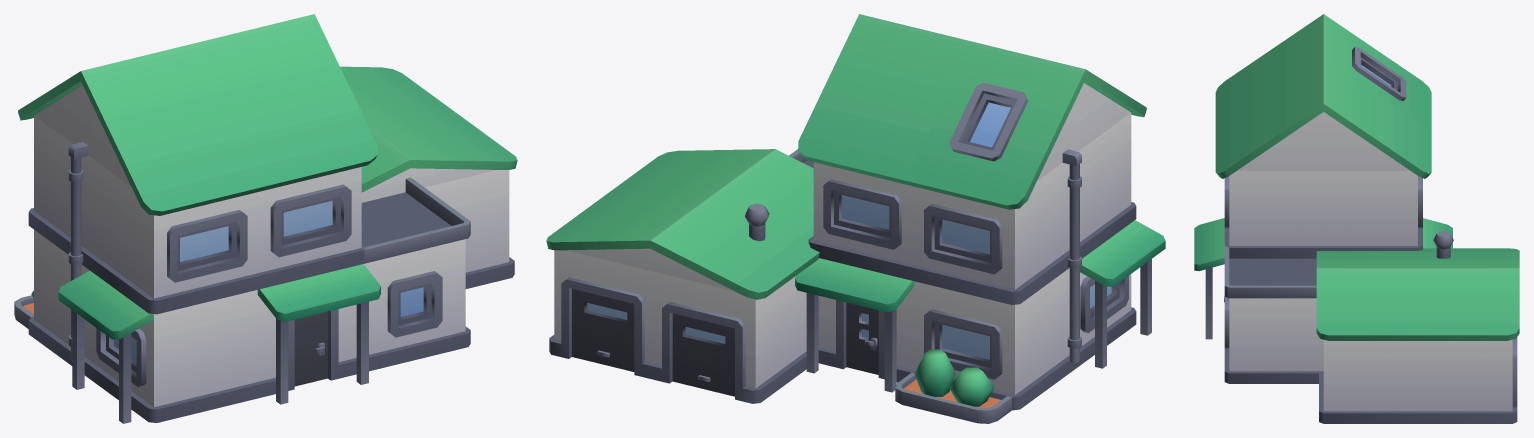
The model's file is k-city-kit-suburban-building-type-n.glb.
3 views of the same model, side by side, from view 1: azimuth 30°, elevation 25°; view 2: azimuth 150°, elevation 25°; view 3: azimuth 270°, elevation 25° (orthographic). The views are drawn at different scales.
Parts seen in each view (by area): view 1: building-type-n; view 2: building-type-n; view 3: building-type-n.
Part boxes in pixels (x1,y1,x2,y2): building-type-n: (14,14,517,423); building-type-n: (546,14,1165,423); building-type-n: (1194,14,1519,423).
Bounding box in the file's own units: 1.78 × 1.14 × 1.38.
Materials: 1 (1 with a texture image).
